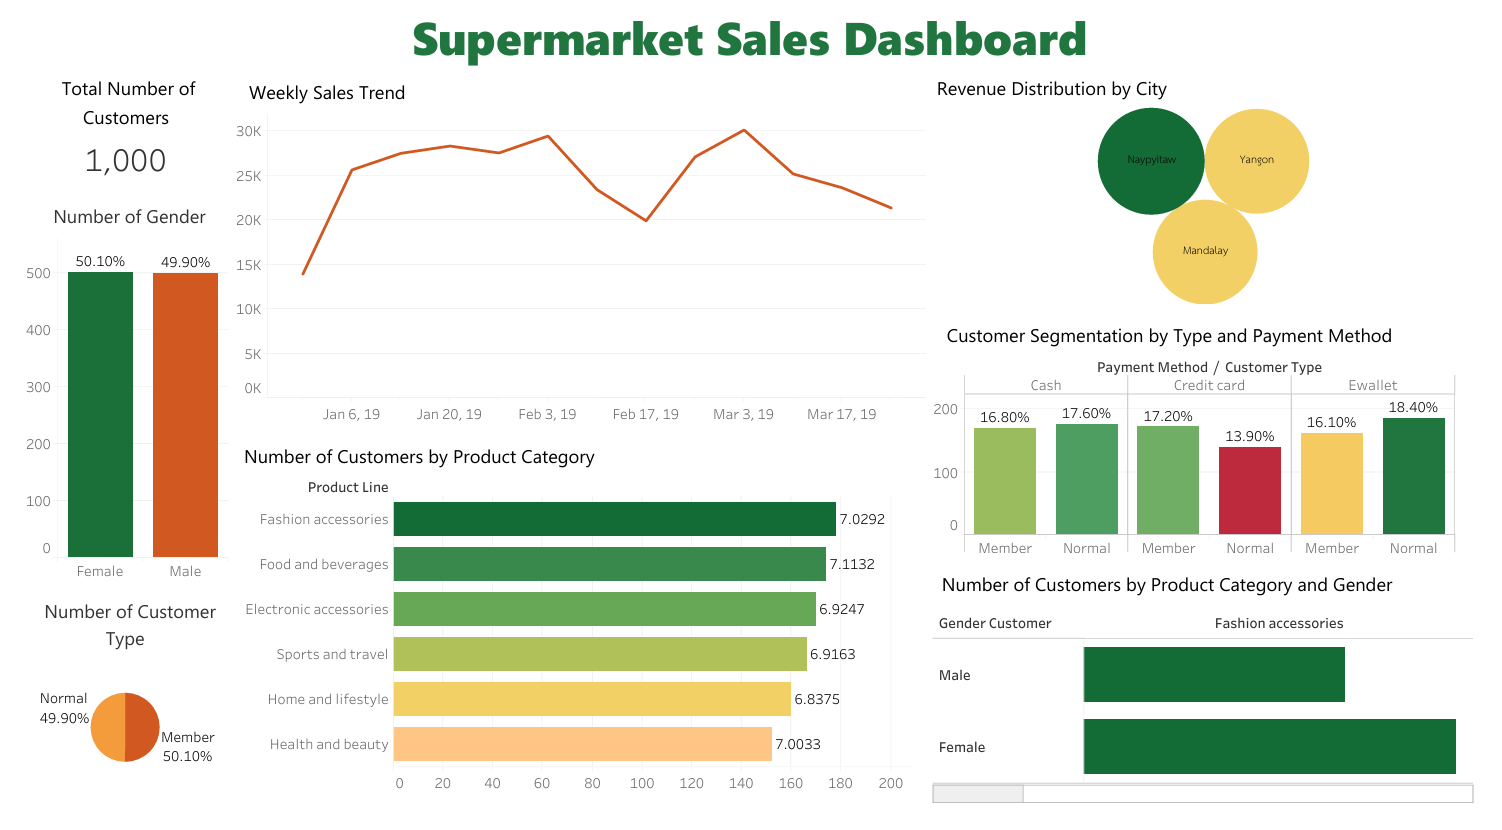

This screenshot's page, from the dashboard's own definition file:
{"tool":"tableau","page":{"name":"Dashboard 1","canvas":[1600,900],"ordinal":0},"visuals":[{"type":"worksheet","title":"Title","mark":"Automatic","box":[8,8,1584,75]},{"type":"worksheet","title":"Total Number of Customers","mark":"Automatic","box":[8,83,228,135]},{"type":"worksheet","title":"Weekly Sales","mark":"Line","rows":["revenue"],"cols":["date"],"box":[236,83,760,395.9]},{"type":"worksheet","title":"Revenue by City","mark":"Circle","box":[996,83,596,264]},{"type":"worksheet","title":"Number of Gender","mark":"Automatic","rows":["invoice_id"],"cols":["gender_customer"],"box":[8,218,228,430]},{"type":"worksheet","title":"Customer by Type and Payment","mark":"Bar","rows":["invoice_id"],"cols":["payment_method","customer_type"],"box":[996,347,596,272.5]},{"type":"worksheet","title":"Product Category","mark":"Automatic","rows":["product_line"],"cols":["invoice_id"],"box":[236,478.9,760,413.1]},{"type":"worksheet","title":"Number of Customer by Product and Gender","mark":"Bar","rows":["gender_customer"],"cols":["product_line"],"box":[996,619.5,596,272.5]},{"type":"worksheet","title":"Number of CusType","mark":"Pie","box":[8,648,228,244]}]}

Visuals, with their boxes in screenshot pixels (x1, y1, x2, y2), scaled from the page's 1600x900 canvas onto the 1502x830 screenshot:
"Title" worksheet: detection(8, 7, 1494, 77)
"Total Number of Customers" worksheet: detection(8, 77, 222, 201)
"Weekly Sales" worksheet (Line marks): detection(222, 77, 935, 442)
"Revenue by City" worksheet (Circle marks): detection(935, 77, 1494, 320)
"Number of Gender" worksheet: detection(8, 201, 222, 598)
"Customer by Type and Payment" worksheet (Bar marks): detection(935, 320, 1494, 571)
"Product Category" worksheet: detection(222, 442, 935, 823)
"Number of Customer by Product and Gender" worksheet (Bar marks): detection(935, 571, 1494, 823)
"Number of CusType" worksheet (Pie marks): detection(8, 598, 222, 823)
